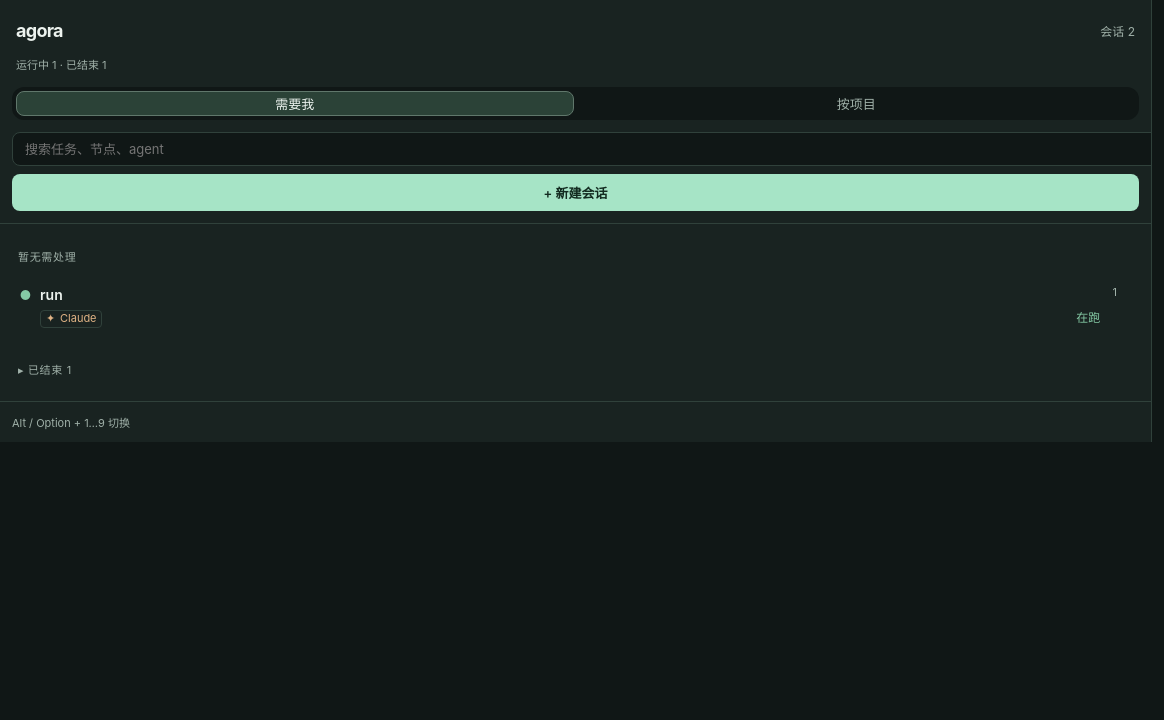
Test: counts a running headless row as Finished, where the row is actually drawn (agora-2x3z)
The image size is (1164, 720).
Expected: the text with test id "counts" reads "运行中 1 · 已结束 1", [16,58,106,72]
What coordinates should you click on to do the following:
click the button with test id "section-finished"
I would click on:
 (45, 369)
Its box is [18,361,72,377].
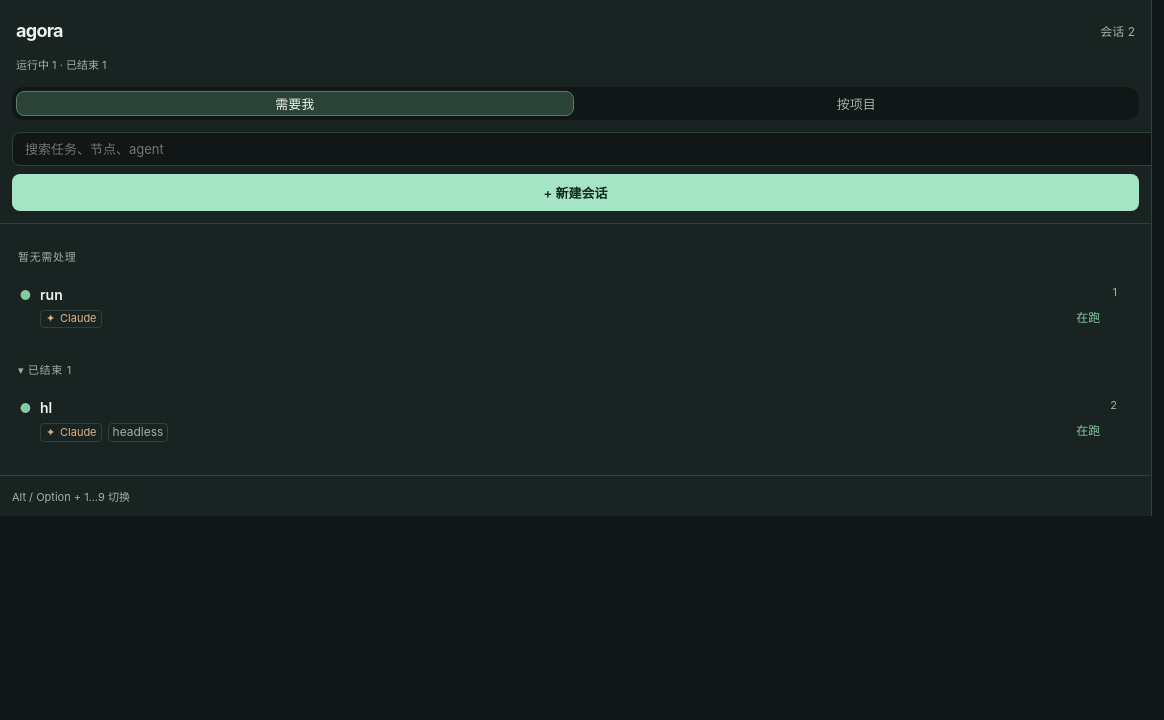
Expected: the button with test id "row-n:hl" is shown, [10,385,1126,455]
